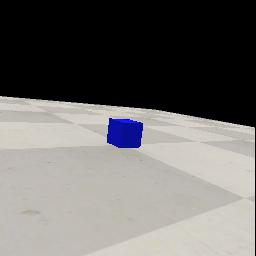box: (107, 118, 143, 148)
